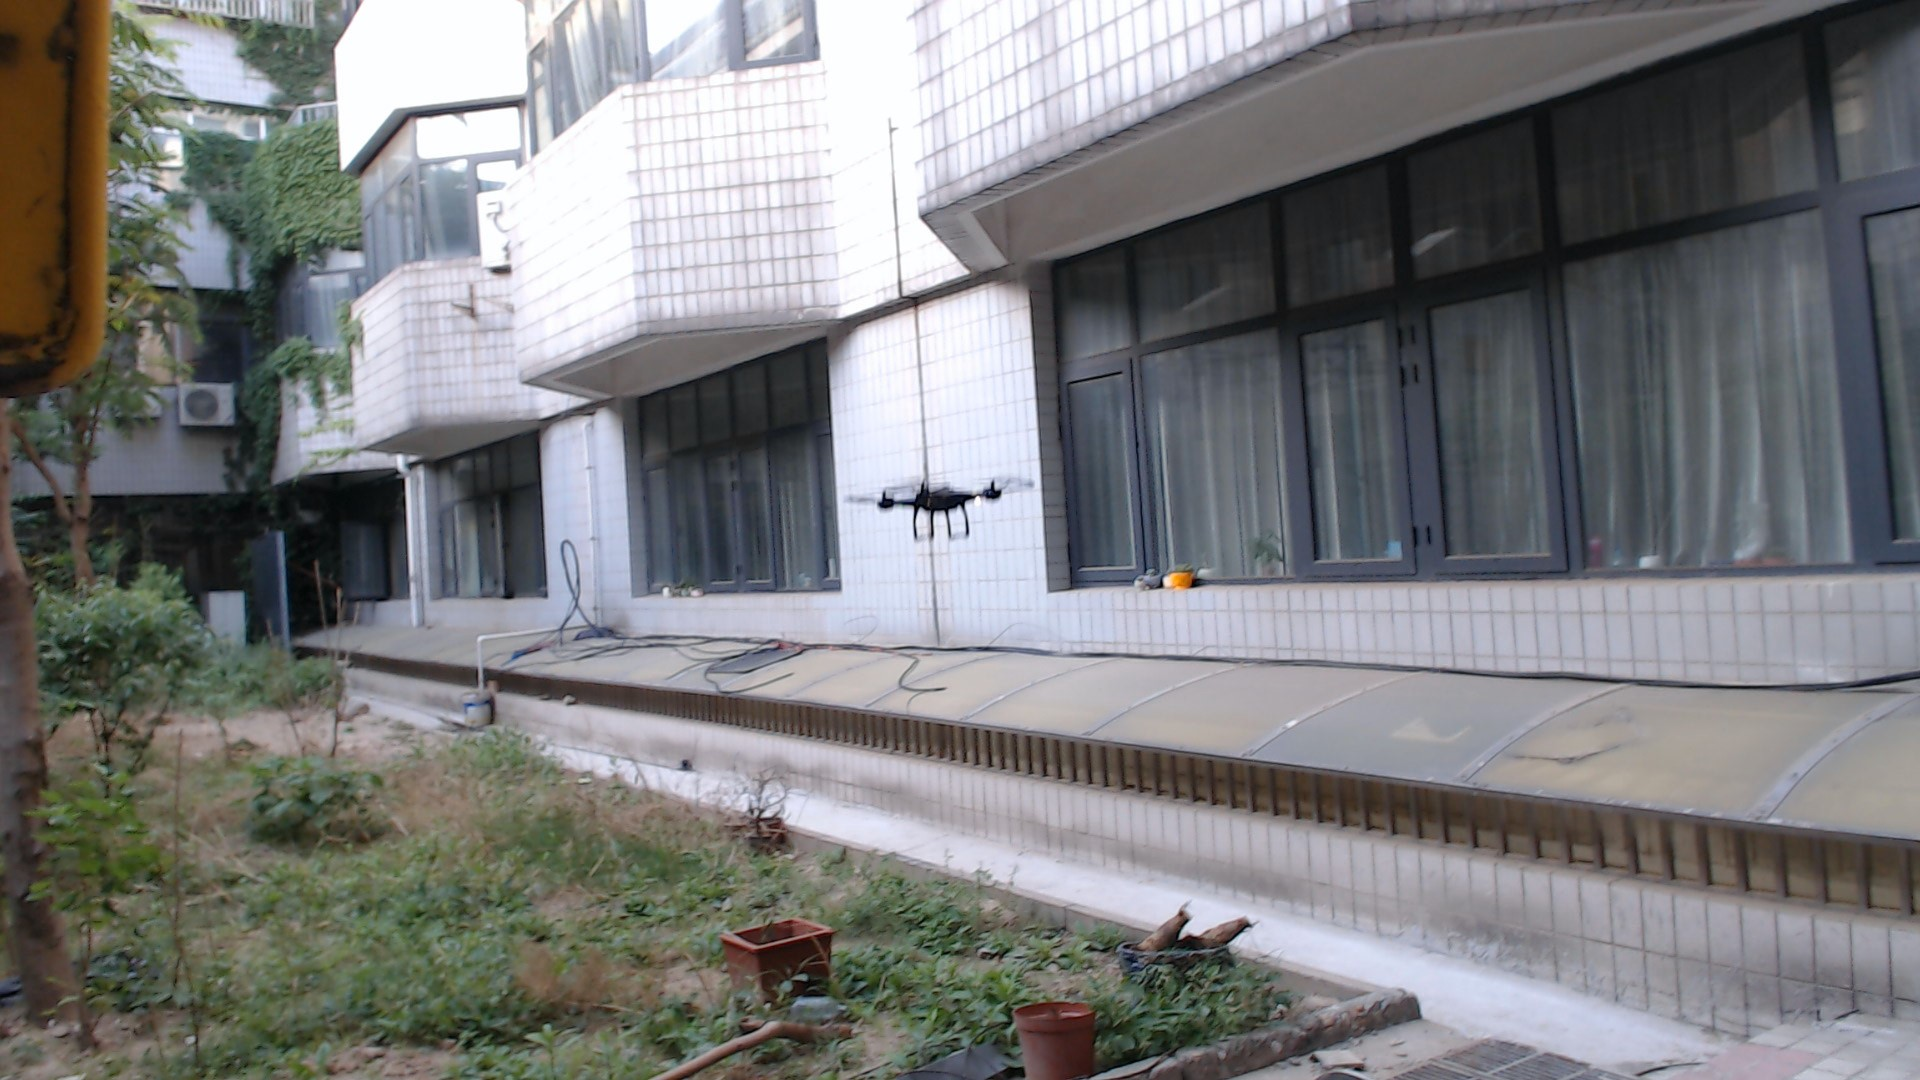drone: (829, 444, 1073, 549)
